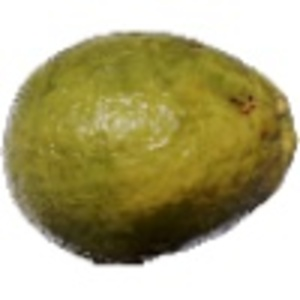goiaba: (4, 26, 290, 264)
